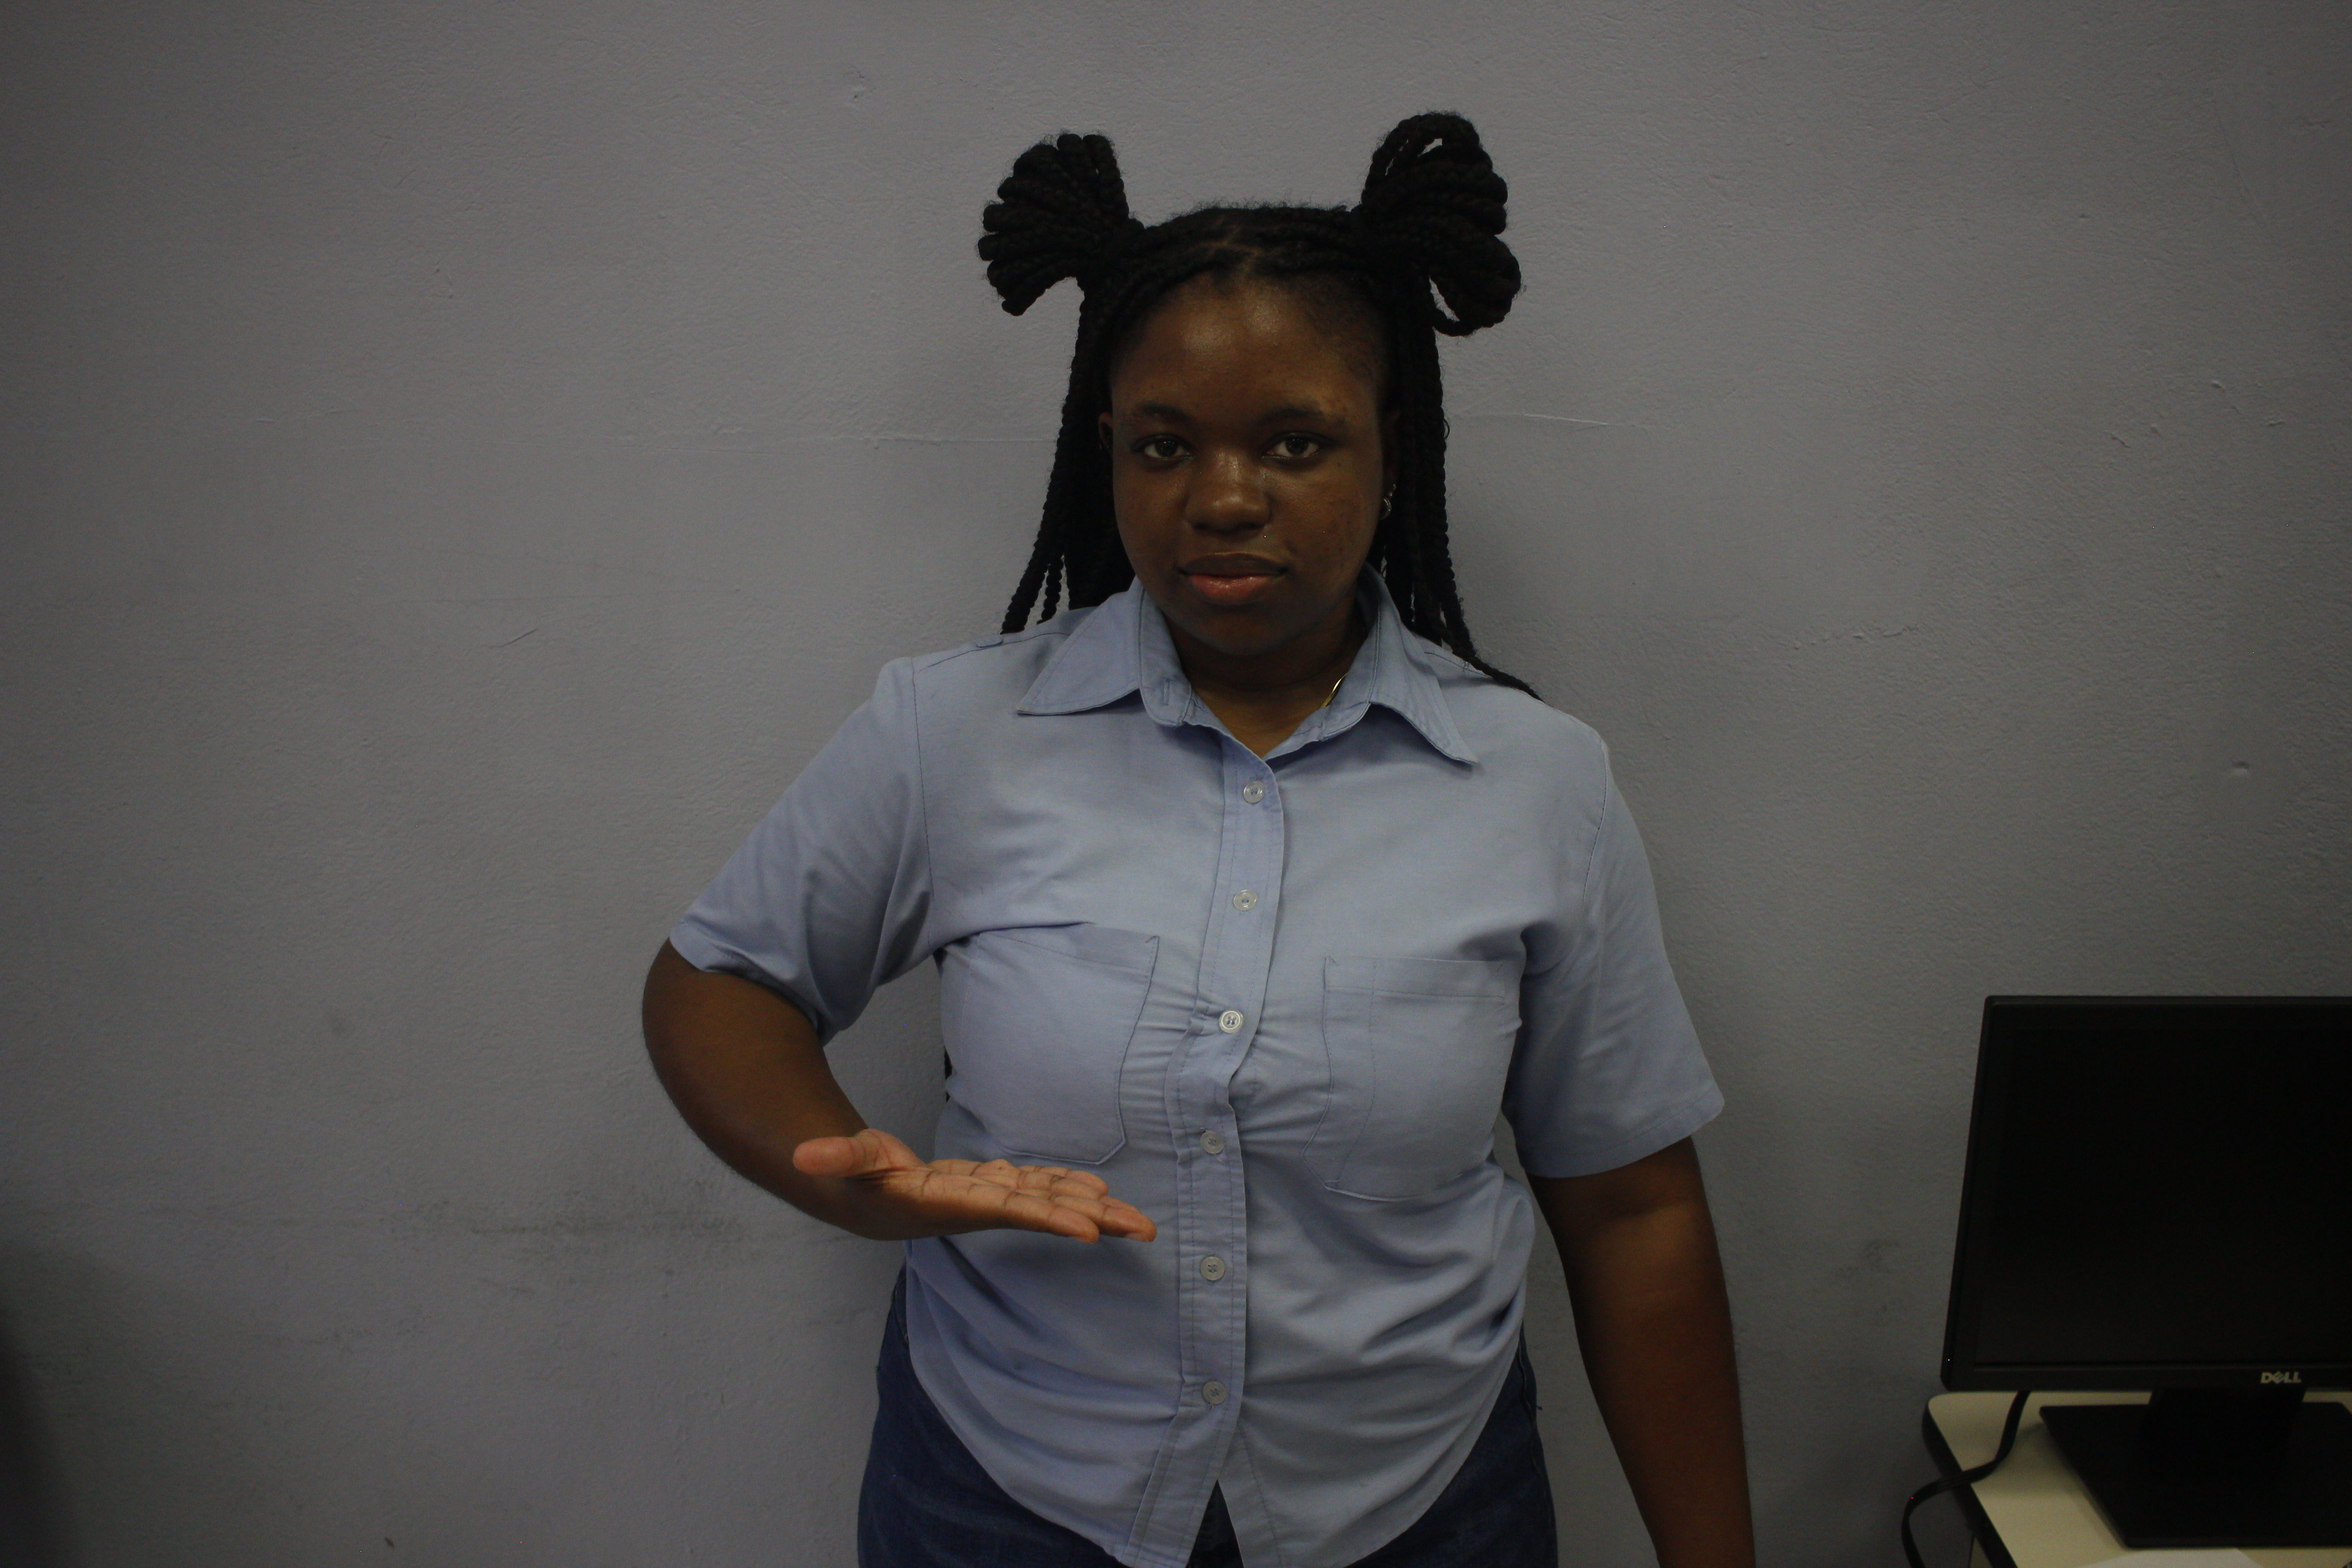you are welcome: (784, 1115, 1164, 1264)
